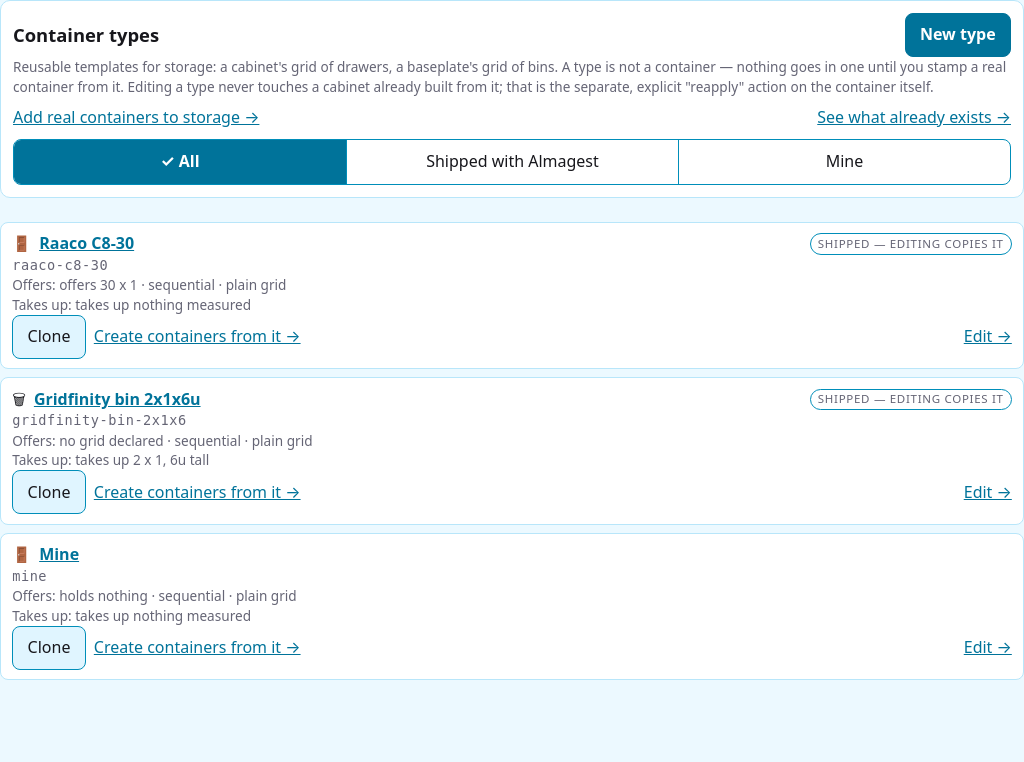
Scenario: the container-type library › explains a slug collision on clone instead of failing silently
Check: the link "Raaco C8-30" is shown, box top-left (39, 232), bottom-right (134, 254)
Click the button "Clone" below "offers 30 x 1". click: (49, 337)
box: top-left (12, 315), bottom-right (86, 359)
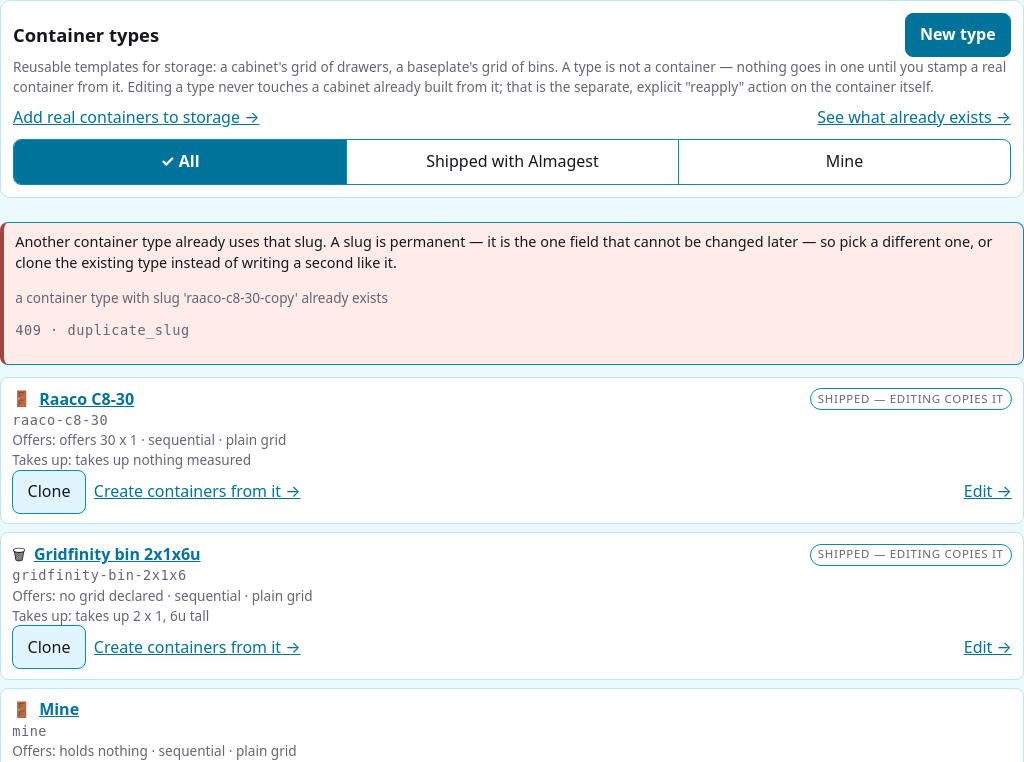
Check: the text "Another container type already uses that slug" is shown, box top-left (15, 232), bottom-right (992, 272)
